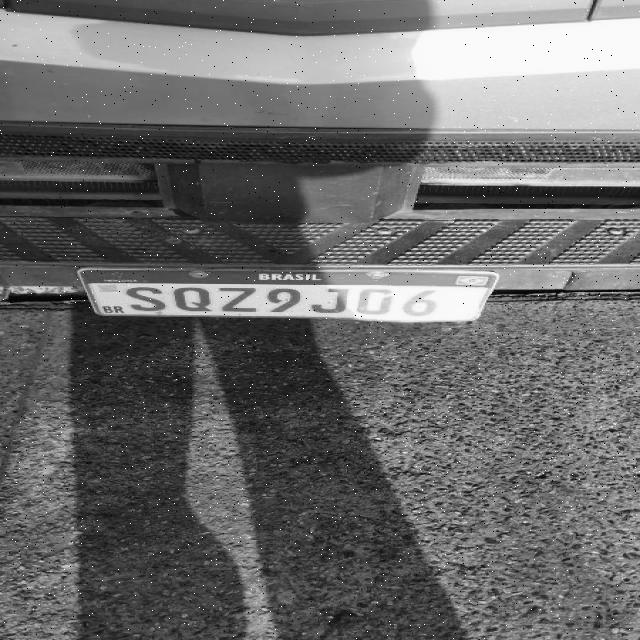placa_mercosul: (76, 266, 498, 322)
